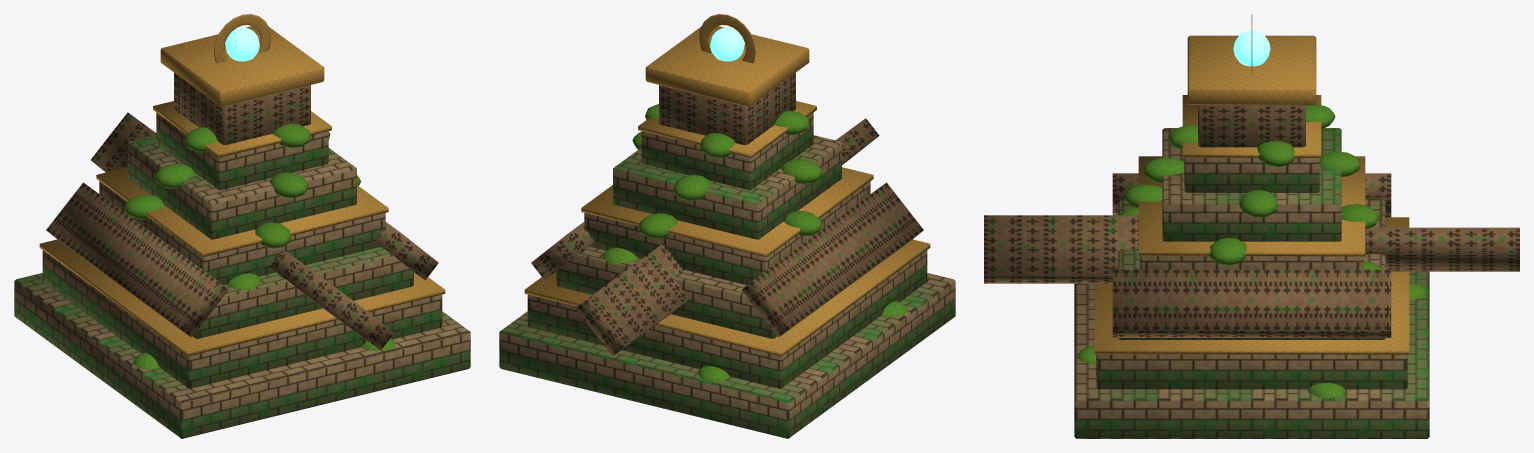
The model's file is prop_mayan_pyramid.glb.
The picture shows the model from 3 angles, left to right: view 1: azimuth 30°, elevation 25°; view 2: azimuth 150°, elevation 25°; view 3: azimuth 270°, elevation 25°; orthographic projection. The views are drawn at different scales.
Visible parts, largest first — view 1: Tier_0; view 2: Tier_0; view 3: Tier_0.
Boxes of the visible parts, x1,y1,x2,y2 form: Tier_0: (14,14,470,438); Tier_0: (499,14,955,438); Tier_0: (984,15,1519,438).
Bounding box in the file's own units: 42 × 45.4 × 63.4.
5 materials, 4 textured.
